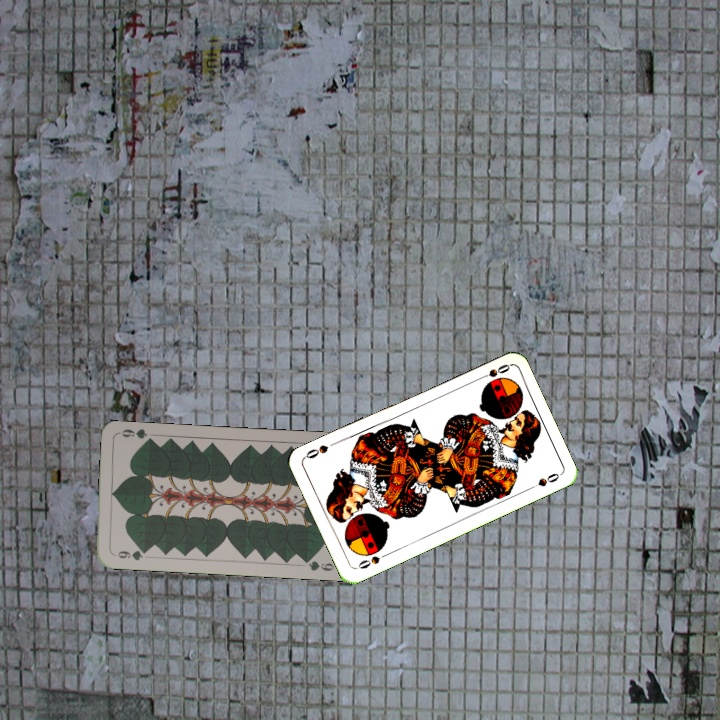G9: (109, 546, 150, 563)
SO: (352, 549, 391, 572), (473, 360, 512, 383)
